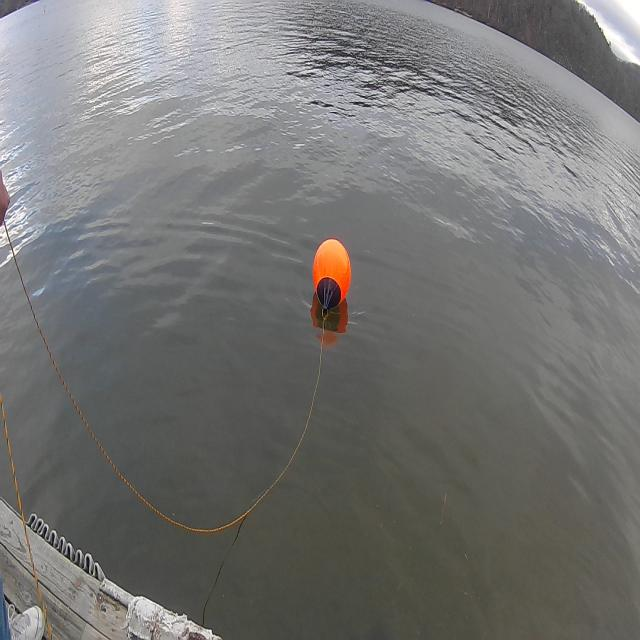Buoy: (309, 232, 354, 323)
